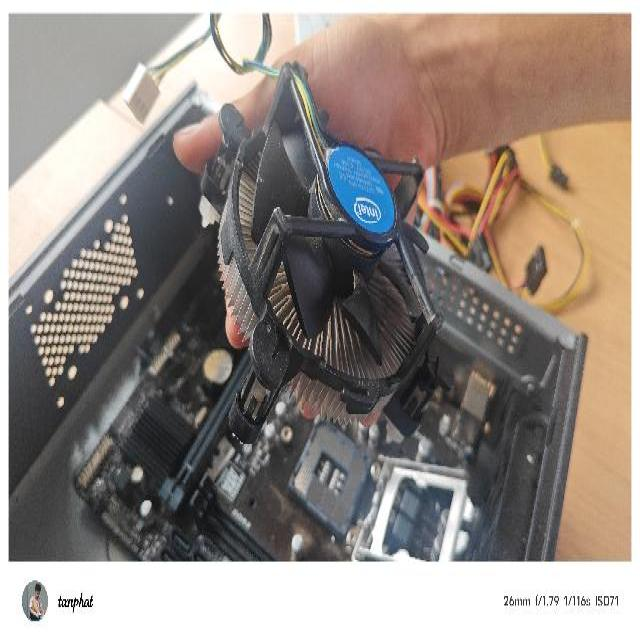CPU_Fan: (196, 52, 456, 448)
